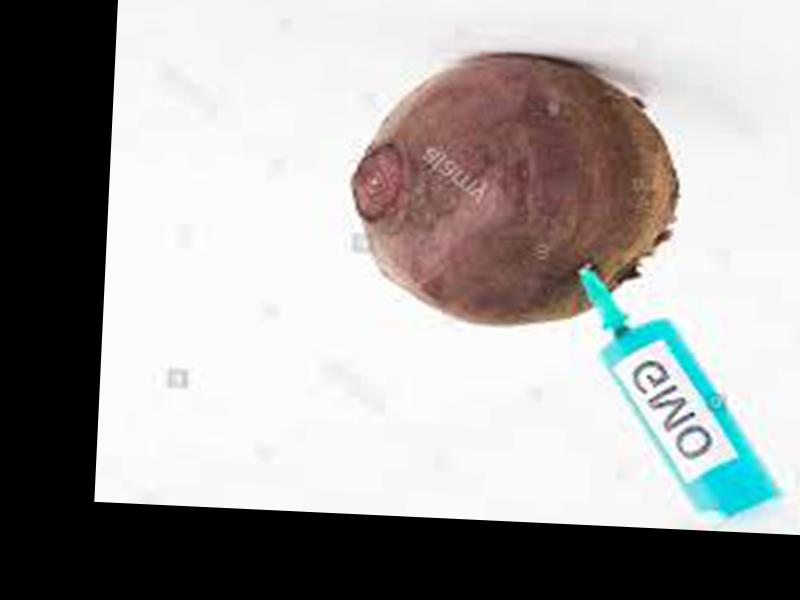Beet: (347, 45, 678, 334)
